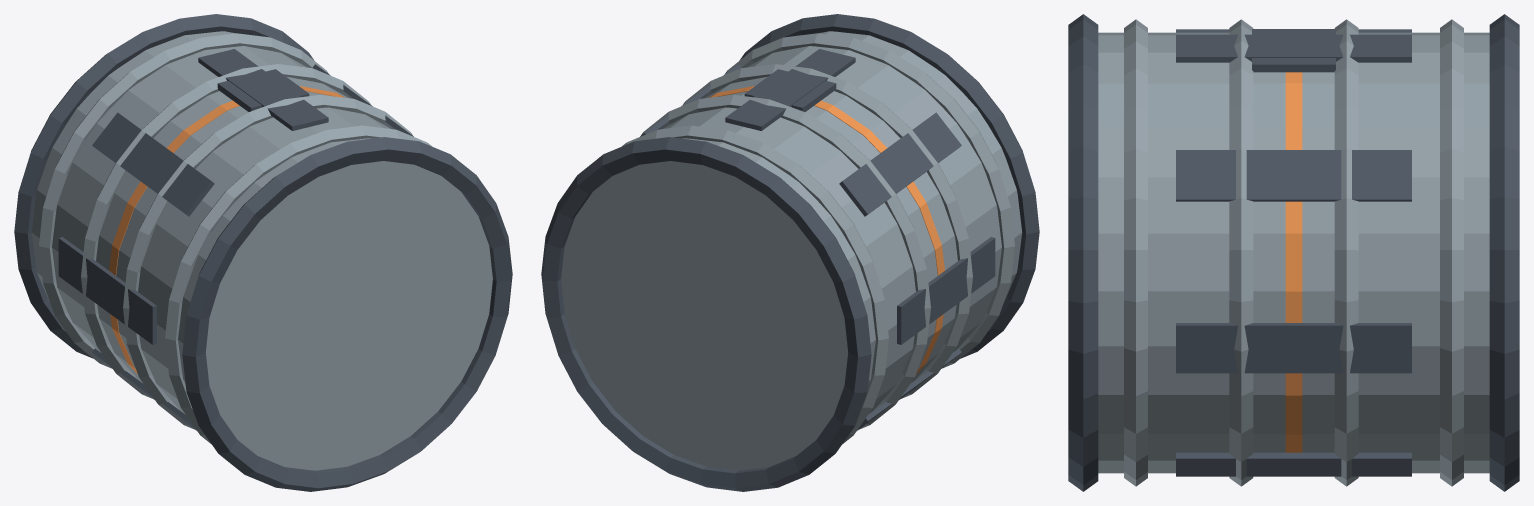
Rendered from sub_hull_mk2.glb.
The picture shows the model from 3 angles, left to right: view 1: azimuth 30°, elevation 25°; view 2: azimuth 150°, elevation 25°; view 3: azimuth 270°, elevation 25°; orthographic projection. The views are drawn at different scales.
Visible parts, largest first — view 1: sub_hull_mk2_hull, sub_hull_mk2_dark, sub_hull_mk2_accent; view 2: sub_hull_mk2_hull, sub_hull_mk2_dark, sub_hull_mk2_accent; view 3: sub_hull_mk2_hull, sub_hull_mk2_dark, sub_hull_mk2_accent.
Part boxes in pixels (x1,y1,x2,y2): sub_hull_mk2_hull: (31,31,492,470); sub_hull_mk2_dark: (14,14,512,491); sub_hull_mk2_accent: (109,86,344,374); sub_hull_mk2_hull: (561,31,1022,470); sub_hull_mk2_dark: (541,14,1039,491); sub_hull_mk2_accent: (709,86,944,374); sub_hull_mk2_hull: (1098,19,1489,486); sub_hull_mk2_dark: (1068,14,1519,491); sub_hull_mk2_accent: (1285,72,1302,452).
Size of the model in its own units: 4.54 by 4.54 by 4.29.
